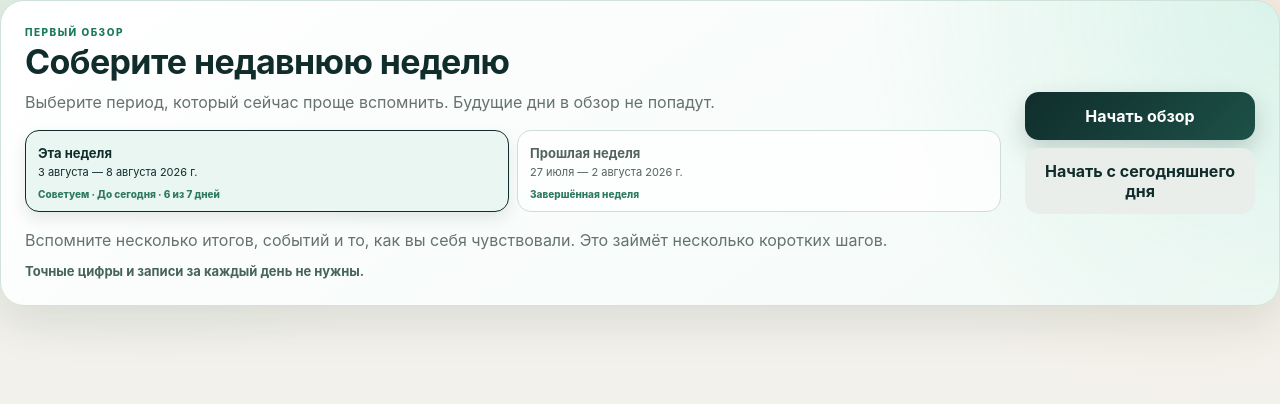
Test: first-use week recovery › keeps the choice visible when starting cannot be saved
Click the button "Начать обзор" at (1140, 116), box [1025,92,1255,140]
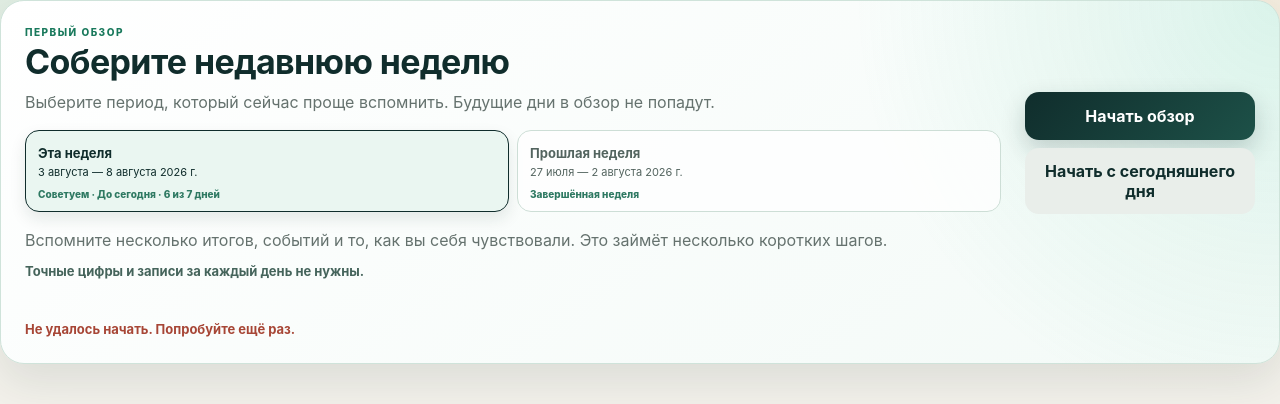
Check: the text "Соберите недавнюю неделю" is shown, box [25,40,510,82]
Check: the text "Не удалось начать. Попробуйте ещё раз." is shown, box [25,321,295,337]
